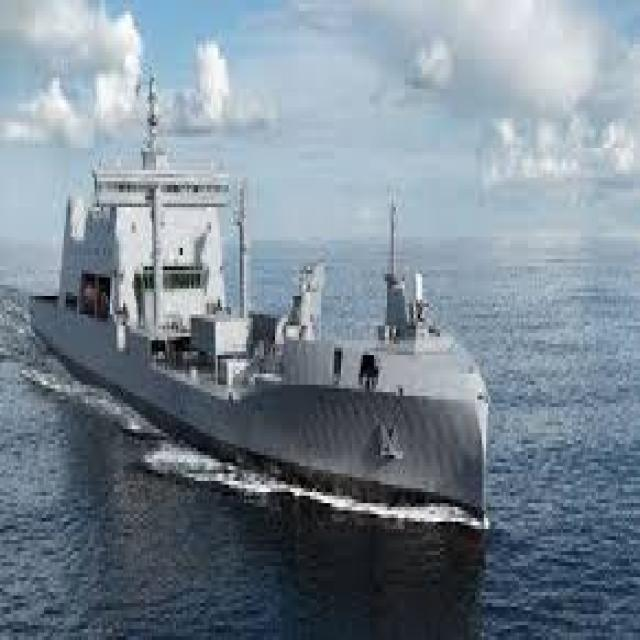navalvessels: (29, 80, 508, 555)
